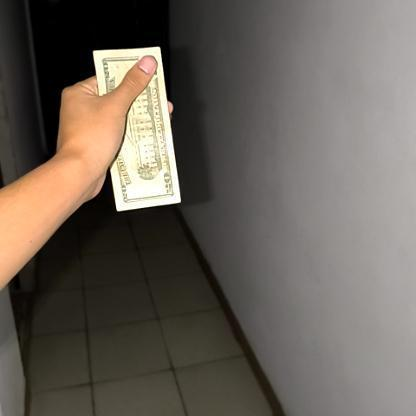dollar_back: (90, 44, 182, 212)
